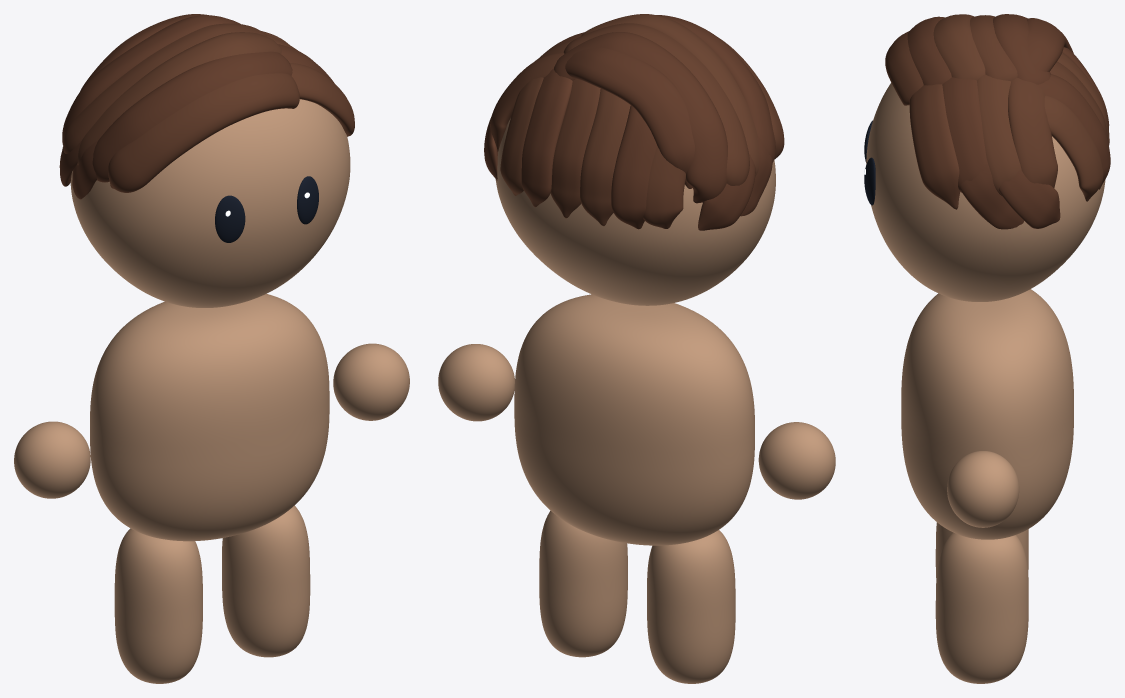
The model's file is Masculine-skin2.glb.
3 views of the same model, side by side, from view 1: azimuth 30°, elevation 25°; view 2: azimuth 150°, elevation 25°; view 3: azimuth 270°, elevation 25° (orthographic).
Parts seen in each view (by area): view 1: Skin / compact torso, Skin / soft oval head, Skin / leg -1, Skin / leg 1, Hair / Side part main 0, Hair / Side part main 1, Skin / hand -1, Skin / hand 1, Hair / Side part main 2, Hair / Side part main 3, Hair / Side part main 4, Hair / Side part short 0 (+4 smaller); view 2: Skin / compact torso, Skin / soft oval head, Skin / leg -1, Skin / leg 1, Hair / Side part crown, Hair / Side part main 4, Skin / hand -1, Skin / hand 1, Hair / Side part nape 2, Hair / Side part nape 4, Hair / Side part main 3, Hair / Side part nape 3 (+9 smaller); view 3: Skin / compact torso, Skin / soft oval head, Skin / leg 1, Skin / hand 1, Hair / Side part short 0, Hair / Side part short 3, Hair / Side part short 1, Hair / Side part short 2, Hair / Side part nape 5, Hair / Side part main 2, Hair / Side part low 1 1, Hair / Side part main 4 (+10 smaller).
Boxes of the visible parts, box(x1,y1,x2,y2) form: Skin / compact torso: box(90, 294, 329, 541); Skin / soft oval head: box(70, 99, 350, 307); Skin / leg -1: box(114, 528, 202, 683); Skin / leg 1: box(222, 505, 310, 657); Hair / Side part main 0: box(108, 73, 299, 192); Hair / Side part main 1: box(92, 51, 292, 182); Skin / hand -1: box(14, 421, 90, 498); Skin / hand 1: box(333, 343, 409, 420); Hair / Side part main 2: box(77, 32, 281, 165); Hair / Side part main 3: box(63, 23, 266, 153); Hair / Side part main 4: box(62, 15, 240, 145); Hair / Side part short 0: box(290, 63, 354, 136); Skin / compact torso: box(514, 294, 754, 545); Skin / soft oval head: box(495, 118, 775, 305); Skin / leg -1: box(647, 530, 735, 683); Skin / leg 1: box(539, 511, 627, 657); Hair / Side part crown: box(565, 47, 694, 188); Hair / Side part main 4: box(554, 32, 727, 203); Skin / hand -1: box(758, 422, 835, 499); Skin / hand 1: box(438, 344, 514, 421); Hair / Side part nape 2: box(580, 88, 630, 226); Hair / Side part nape 4: box(521, 68, 572, 207); Hair / Side part main 3: box(563, 23, 749, 185); Hair / Side part nape 3: box(550, 79, 600, 218); Skin / compact torso: box(901, 289, 1073, 539); Skin / soft oval head: box(866, 83, 1105, 301); Skin / leg 1: box(935, 532, 1028, 683); Skin / hand 1: box(947, 451, 1019, 527); Hair / Side part short 0: box(909, 84, 960, 209); Hair / Side part short 3: box(1008, 77, 1057, 187); Hair / Side part short 1: box(942, 77, 986, 192); Hair / Side part short 2: box(977, 74, 1021, 195); Hair / Side part nape 5: box(1044, 95, 1103, 201); Hair / Side part main 2: box(933, 14, 985, 80); Hair / Side part low 1 1: box(999, 170, 1060, 228); Hair / Side part main 4: box(993, 14, 1050, 84).
Bounding box in the file's own units: 1.49 × 2.34 × 0.8319.
